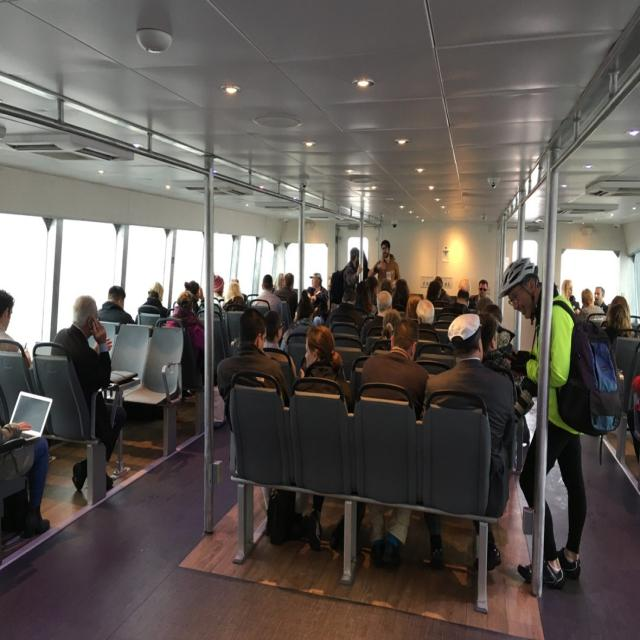body: (494, 253, 628, 593), (418, 307, 519, 577), (359, 315, 431, 571), (215, 306, 292, 538), (50, 292, 128, 495), (295, 322, 350, 554), (354, 273, 502, 329), (280, 290, 318, 376), (476, 311, 516, 384), (165, 290, 205, 361), (0, 288, 32, 367), (262, 309, 298, 379), (363, 307, 401, 362), (329, 246, 363, 306), (367, 238, 401, 298), (137, 280, 171, 338), (602, 295, 634, 354), (360, 290, 393, 344), (328, 287, 364, 334), (96, 284, 137, 324), (251, 273, 283, 319), (574, 287, 607, 324), (274, 272, 298, 322), (627, 373, 639, 465), (273, 272, 294, 322), (183, 280, 206, 318), (222, 280, 249, 312), (308, 272, 328, 312), (415, 298, 435, 330), (560, 278, 580, 310), (355, 243, 370, 274), (212, 274, 225, 309), (594, 286, 608, 314), (298, 352, 309, 382), (312, 302, 325, 327), (229, 277, 242, 284)
